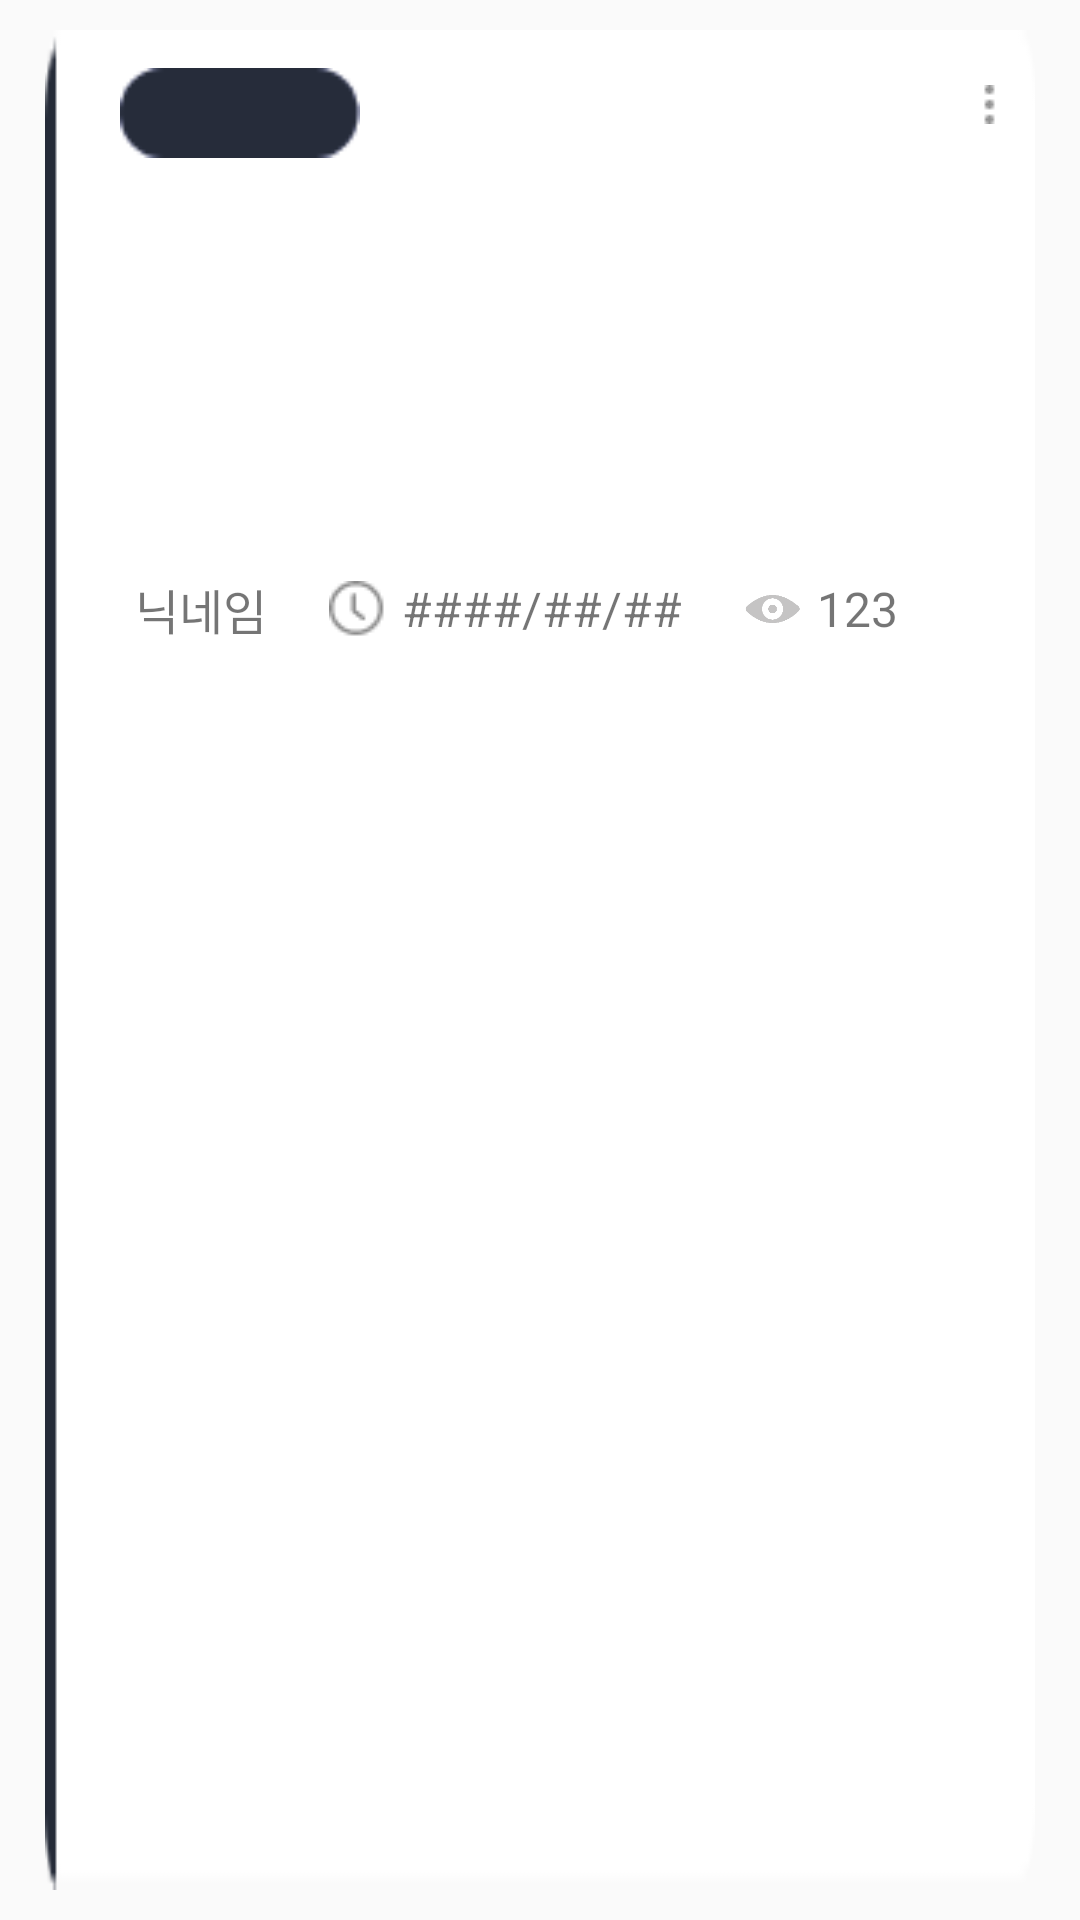

Icon click points for this 1080w x 1920h phone screenshot, format (x,y):
circular wall clock: (356,608)
dots three vertical: (989,104)
post views: (773,609)
